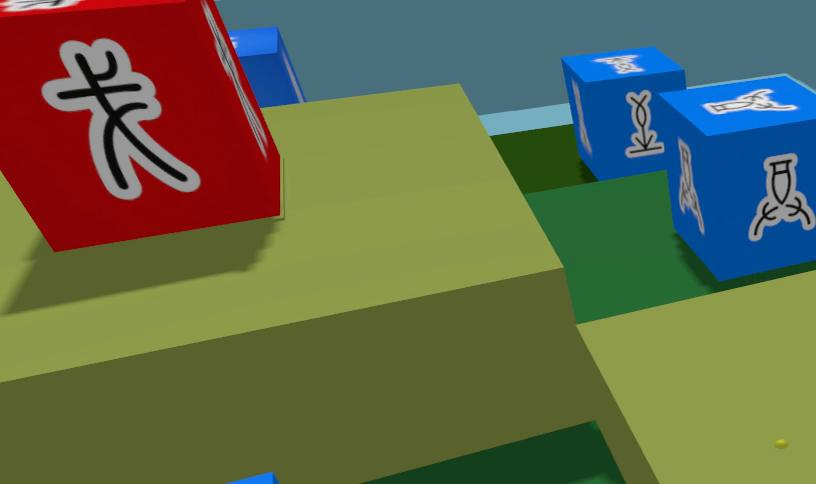KFS_FAKE: (0, 0, 281, 251), (41, 39, 200, 200)
KFS_REAL: (654, 74, 815, 279), (561, 47, 687, 178), (749, 153, 814, 241), (677, 140, 704, 231), (703, 88, 795, 113), (593, 53, 644, 73), (229, 474, 278, 483)
